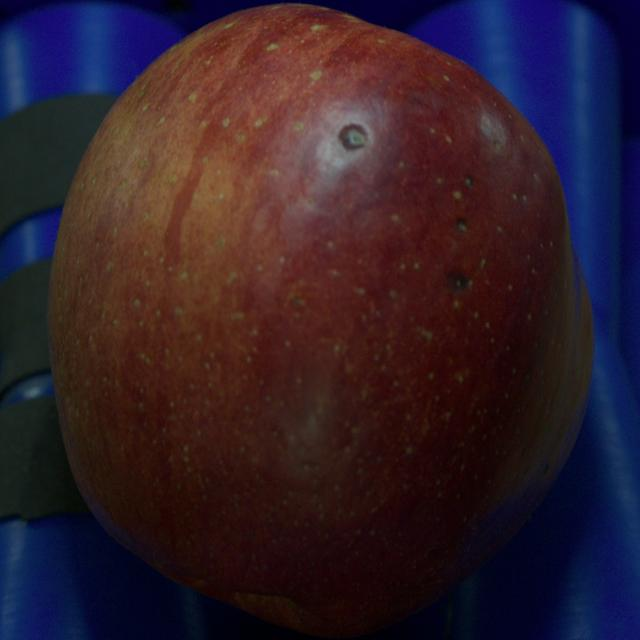apple: (49, 4, 593, 636)
pest: (340, 126, 366, 149), (448, 272, 472, 294), (457, 219, 466, 232), (466, 178, 474, 186)
